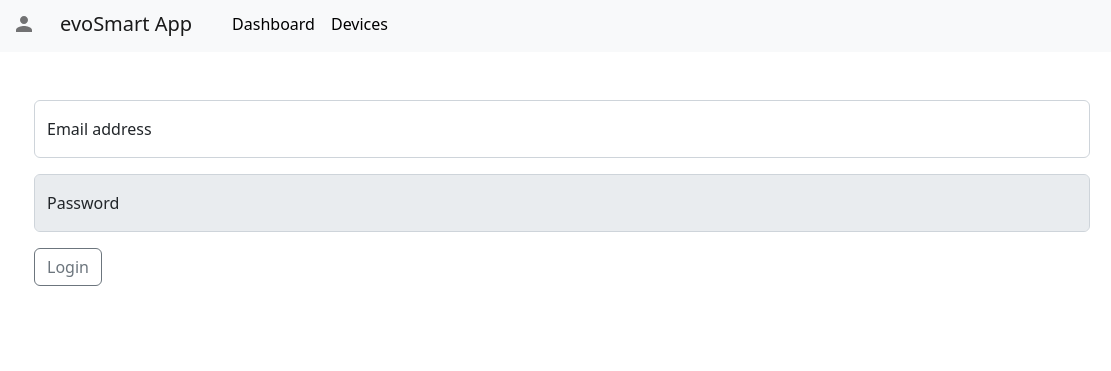
Scenario: Test Login App › When email input valid but password is invalid
Expected: the password field with test id "password-input" is disabled, [34,174,1090,232]
Type "admin@email.com" into the field with test id "email-input" at point(562, 129), box [34,100,1090,158]
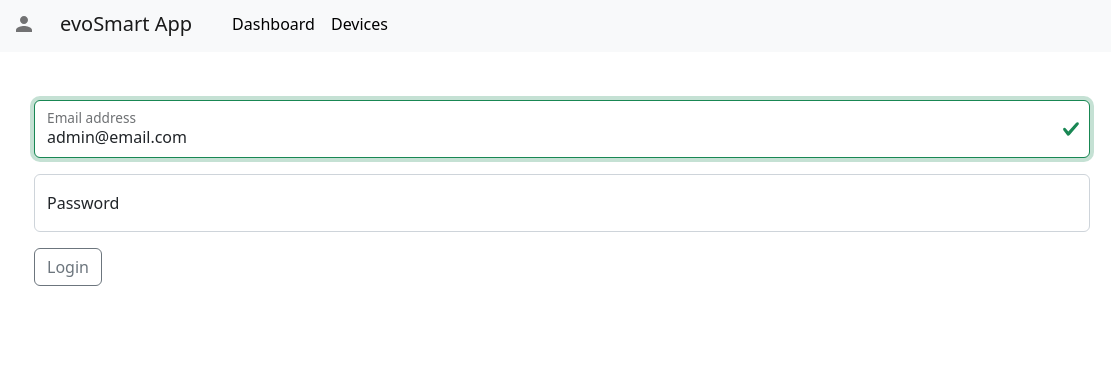
Type "wrong password" into the password field with test id "password-input" at point(562, 203), box [34,174,1090,232]
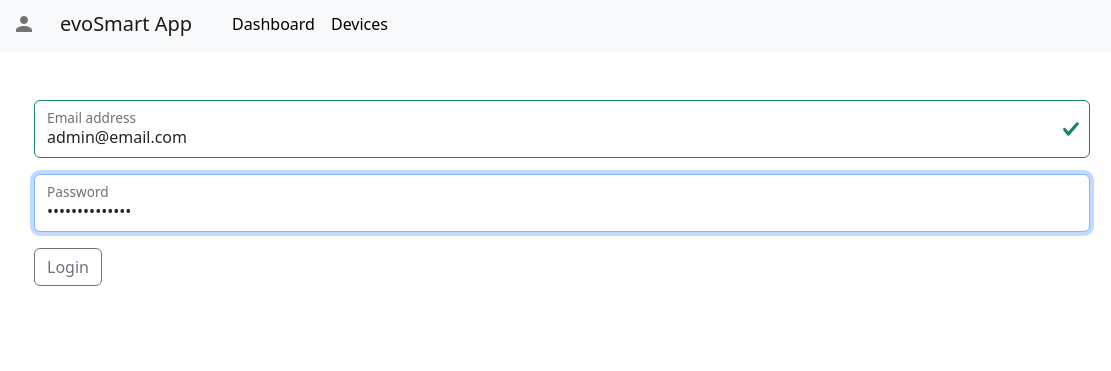
Now the password field with test id "password-input" is enabled, box [34,174,1090,232]
Click the button "Login" at point(68, 267), box [34,248,102,286]
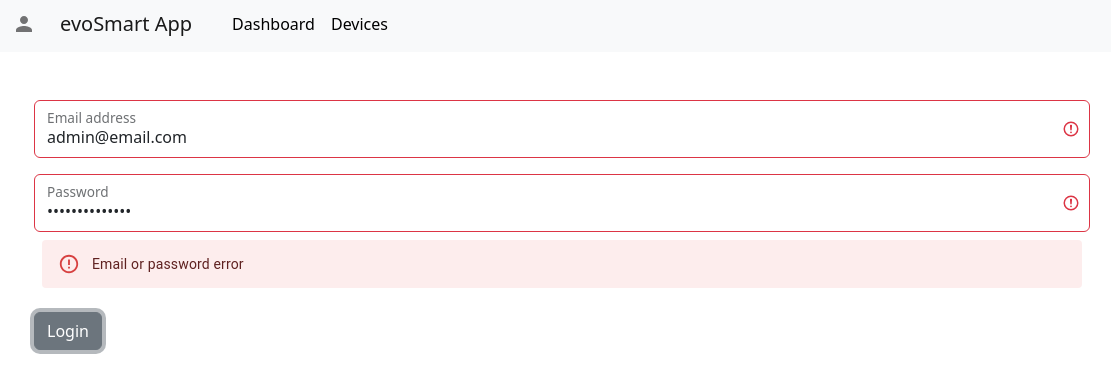
Now the text "Email or password error" is shown, box [92,256,244,272]
